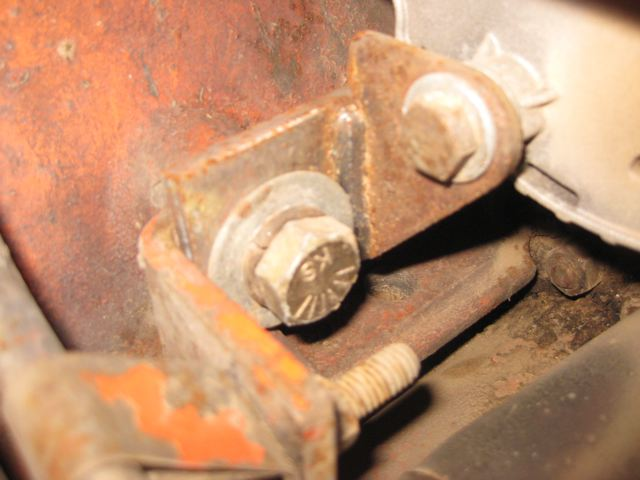bolt_a: (248, 207, 365, 335)
vague: (397, 88, 481, 191), (542, 240, 601, 300)
